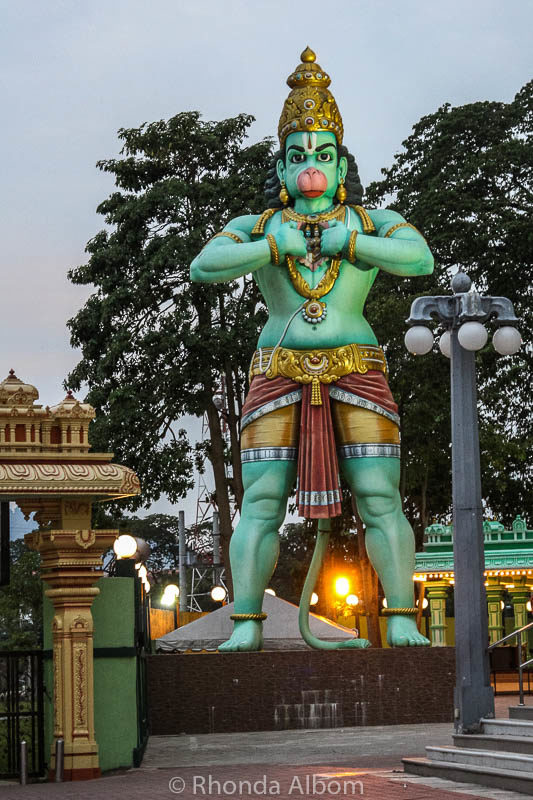Hindu Temple: (182, 41, 423, 662)
